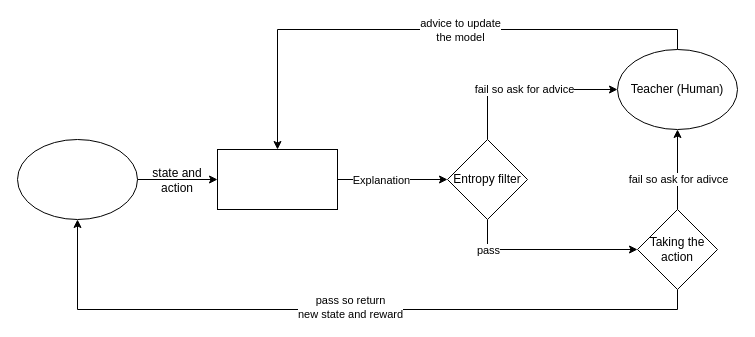
This 755x337 diagram has some shape labels left out. Here are the shapes that lost their labels. From the top down, the centre of each, then its label:
(x=77, y=179): Student (Agent)
(x=277, y=179): Explain model
